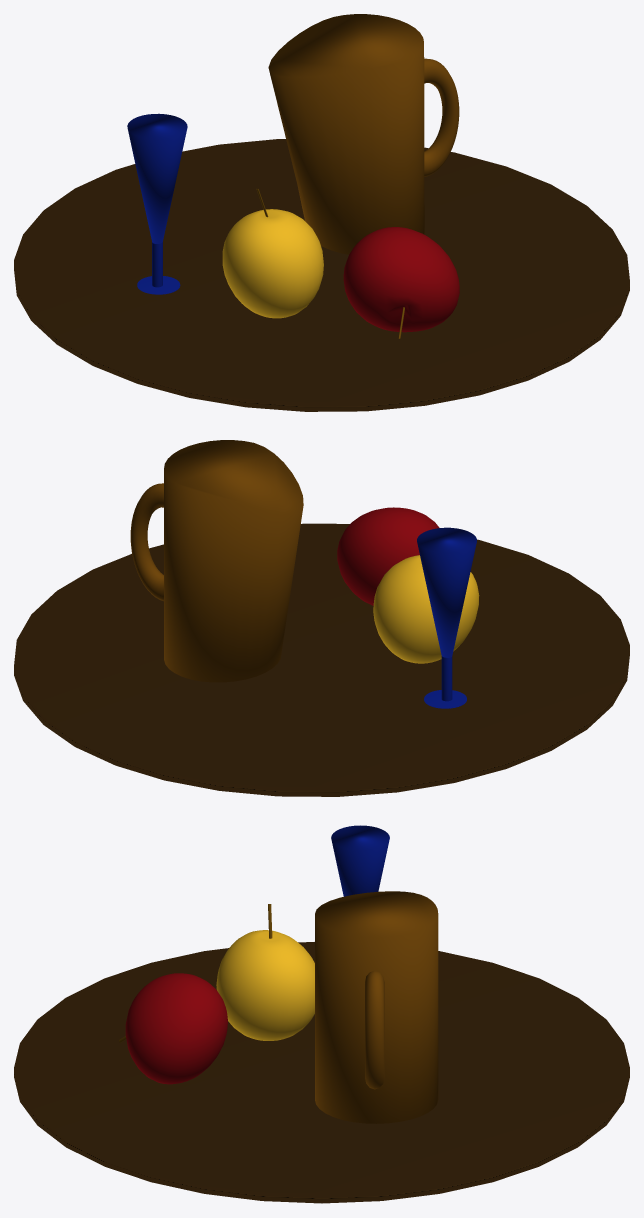
3 renders of one model, top to bottom at view 1: azimuth 30°, elevation 25°; view 2: azimuth 150°, elevation 25°; view 3: azimuth 270°, elevation 25°, orthographic. The views are drawn at different scales.
Parts seen in each view (by area): view 1: Cylinder.005, Cylinder.004, Sphere, Sphere.001, Cone, Torus, Cylinder.002; view 2: Cylinder.005, Cylinder.004, Sphere.001, Sphere, Cone, Torus, Cylinder.002, Cylinder.003; view 3: Cylinder.005, Cylinder.004, Sphere, Sphere.001, Cone, Torus.
Part boxes in pixels (<box>): Cylinder.005: <box>14,139,629,411</box>; Cylinder.004: <box>268,14,424,254</box>; Sphere: <box>343,227,459,332</box>; Sphere.001: <box>222,209,323,318</box>; Cone: <box>127,113,187,243</box>; Torus: <box>424,58,459,176</box>; Cylinder.002: <box>137,276,180,294</box>; Cylinder.005: <box>14,523,629,796</box>; Cylinder.004: <box>164,440,303,682</box>; Sphere.001: <box>373,555,479,663</box>; Sphere: <box>337,507,439,605</box>; Cone: <box>417,527,476,657</box>; Torus: <box>130,483,163,601</box>; Cylinder.002: <box>424,690,466,708</box>; Cylinder.003: <box>441,656,452,701</box>; Cylinder.005: <box>14,942,629,1203</box>; Cylinder.004: <box>315,891,438,1123</box>; Sphere: <box>125,973,227,1084</box>; Sphere.001: <box>216,930,314,1040</box>; Cone: <box>331,825,389,896</box>; Torus: <box>365,971,384,1089</box>.
Bounding box in the file's own units: 5.68 × 2.07 × 5.85.
